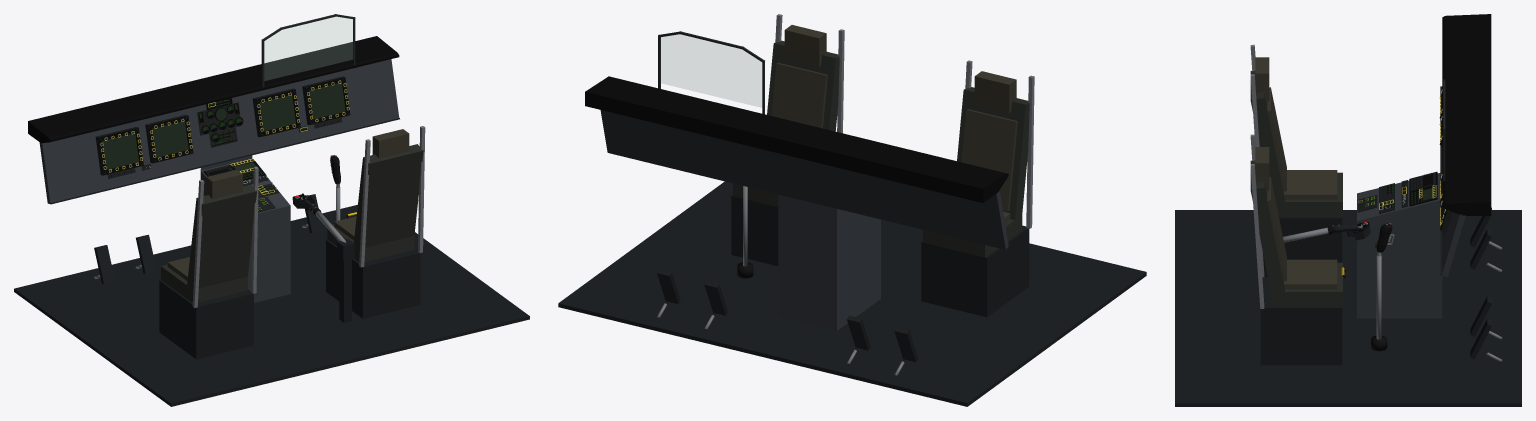
Rendered from cockpit_mh60r.glb.
3 renders of one model, left to right at view 1: azimuth 30°, elevation 25°; view 2: azimuth 150°, elevation 25°; view 3: azimuth 270°, elevation 25°, orthographic. The views are drawn at different scales.
Parts seen in each view (by area): view 1: dark.216, panel_grey, black, dark.222, seat_95.001, seat_95, dark.221, hud_glass_69, panel_grey.001, seat_93.001, screen_fourth, screen_left (+13 smaller); view 2: dark.216, panel_grey, black, panel_grey.001, dark.222, hud_glass_69, cushion_96.001, cushion_96, panel_grey.002, dark.221, seat_95.001, seat_95 (+8 smaller); view 3: dark.216, black, panel_grey.001, dark.221, dark.222, seat_95, cushion_94, cushion_94.001, seat_93, seat_93.001, seat_95.001, panel_grey (+11 smaller).
Part boxes in pixels (x1,y1,x2,y2): dark.216: (14, 204, 529, 406); panel_grey: (39, 59, 399, 203); black: (28, 36, 399, 143); dark.222: (159, 280, 253, 359); seat_95.001: (187, 184, 256, 292); seat_95: (353, 144, 423, 250); dark.221: (326, 239, 420, 318); hud_glass_69: (264, 17, 352, 80); panel_grey.001: (200, 158, 290, 302); seat_93.001: (161, 264, 247, 302); screen_fourth: (152, 121, 188, 157); screen_left: (259, 95, 295, 131); dark.216: (558, 181, 1146, 406); panel_grey: (600, 110, 1008, 249); black: (585, 76, 1008, 202); panel_grey.001: (778, 194, 880, 330); dark.222: (921, 225, 1029, 317); hud_glass_69: (661, 34, 761, 107); cushion_96.001: (961, 109, 1017, 210); cushion_96: (771, 62, 827, 128); panel_grey.002: (778, 196, 836, 325); dark.221: (731, 195, 778, 266); seat_95.001: (957, 87, 1029, 220); seat_95: (767, 40, 839, 131); dark.216: (1175, 210, 1521, 406); black: (1442, 14, 1491, 215); panel_grey.001: (1357, 173, 1442, 318); dark.221: (1260, 277, 1342, 365); dark.222: (1279, 217, 1342, 262); seat_95: (1250, 160, 1284, 293); cushion_94: (1284, 259, 1337, 289); cushion_94.001: (1284, 170, 1337, 199); seat_93: (1270, 262, 1342, 306); seat_93.001: (1276, 172, 1342, 217); seat_95.001: (1250, 71, 1284, 201); panel_grey: (1442, 86, 1465, 276).
Bounding box in the file's own units: 2.24 × 1.39 × 1.7.
30 materials, 6 textured.
